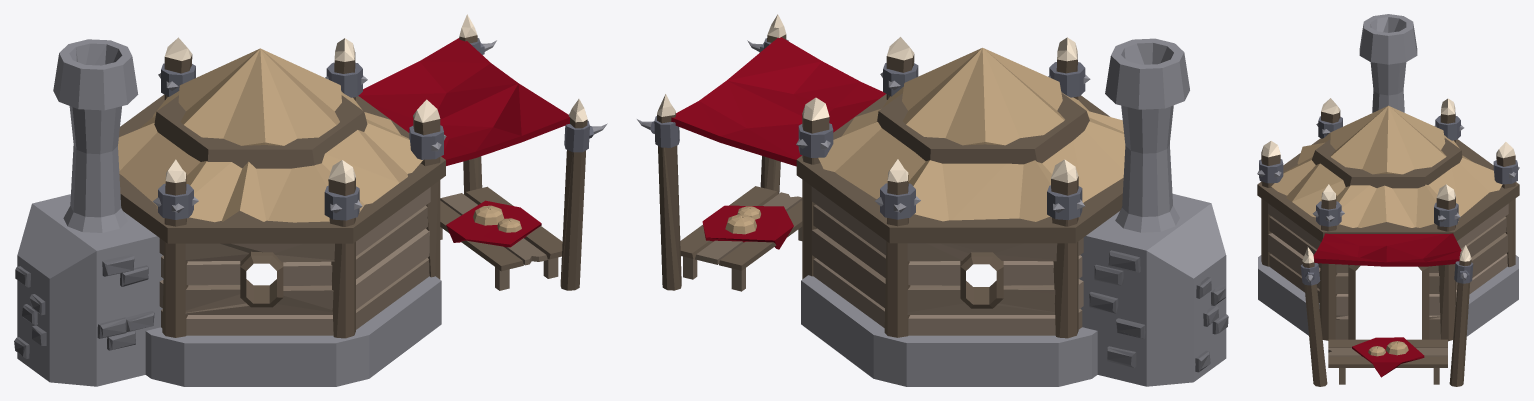
File: bakery.fbx
3 renders of one model, left to right at view 1: azimuth 30°, elevation 25°; view 2: azimuth 150°, elevation 25°; view 3: azimuth 270°, elevation 25°, orthographic. The views are drawn at different scales.
Visible parts, largest first — view 1: bakery; view 2: bakery; view 3: bakery.
Part boxes in pixels (<box>): bakery: <box>14,14,607,386</box>; bakery: <box>637,14,1228,386</box>; bakery: <box>1257,14,1519,386</box>.
Size of the model in its own units: 1706 by 936 by 1050.
